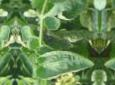Tomato mold leaf: (35, 50, 95, 78), (37, 0, 91, 24)
